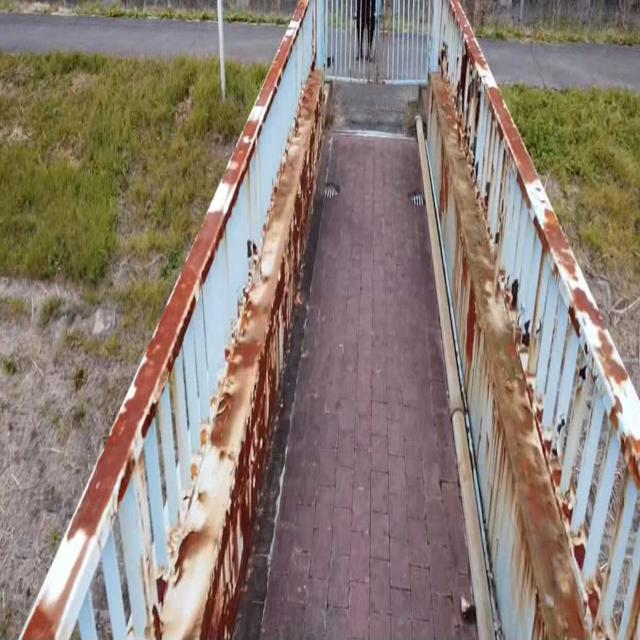corrosion: (46, 43, 336, 640), (432, 32, 640, 640)
